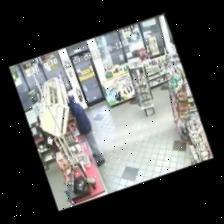person: (67, 95, 105, 166)
